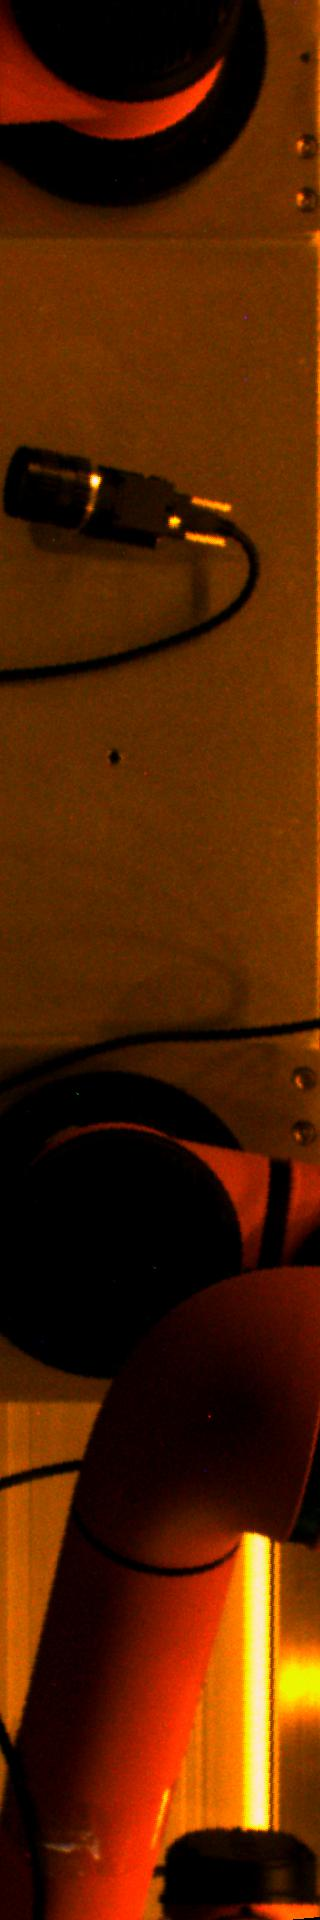keyPoint_2: (98, 744, 128, 774)
